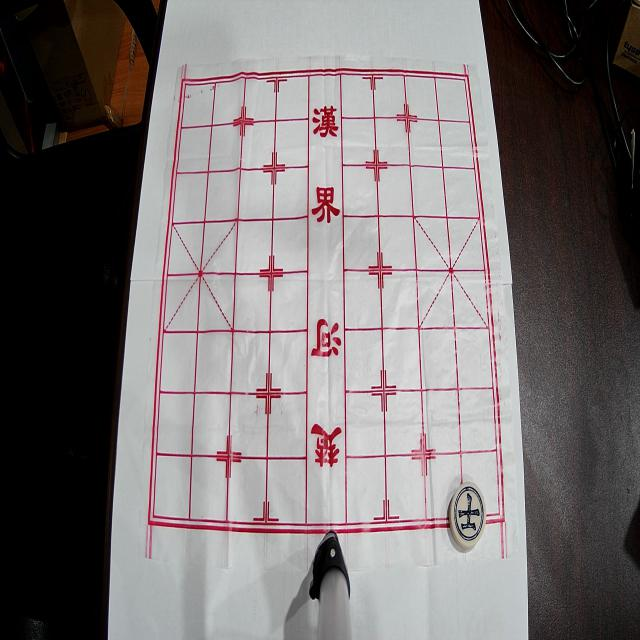black-guard: (449, 482, 486, 548)
